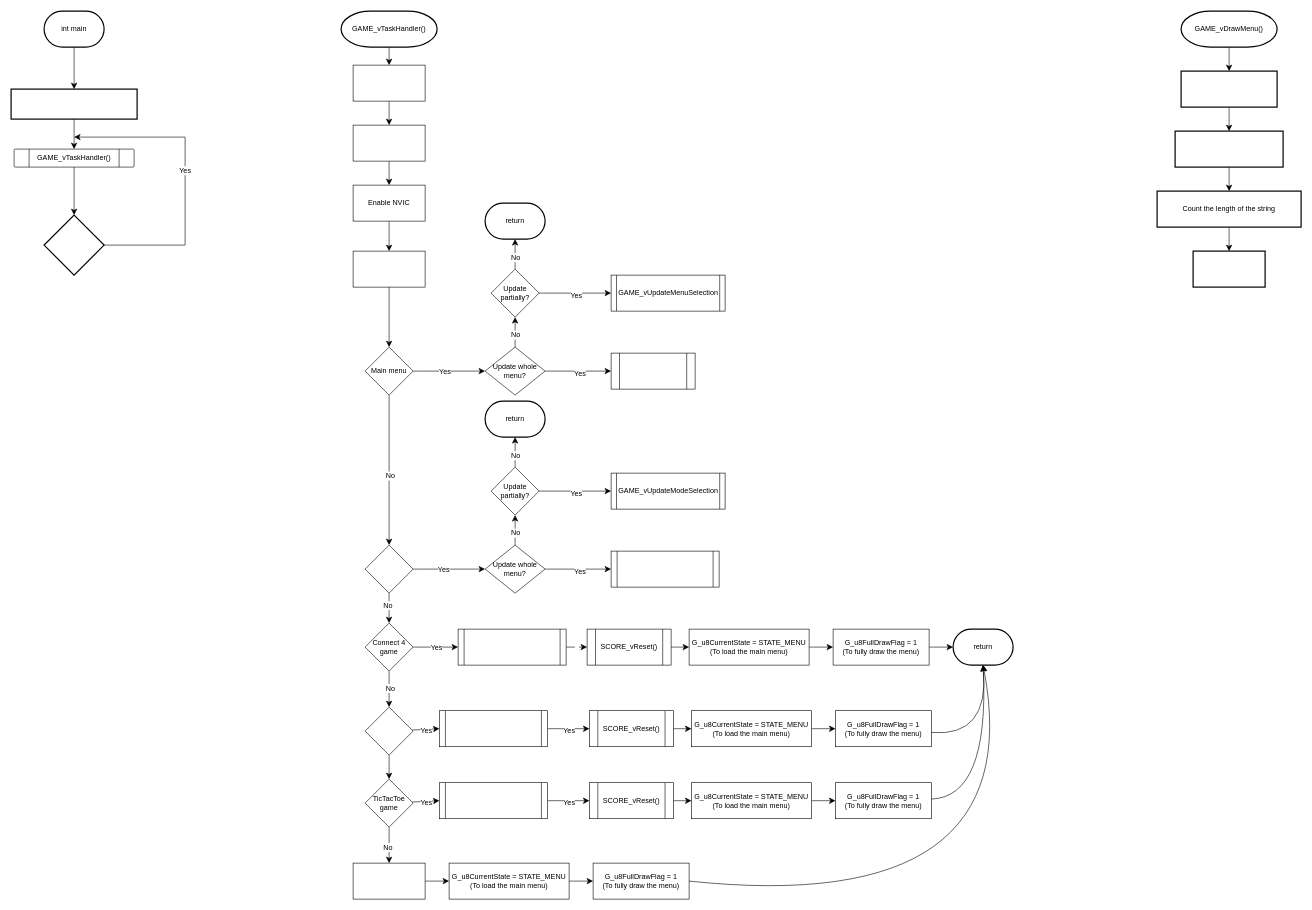
Some shapes in this 1312 by 910 pixel diagram are drawn without their labels. The centre of each missing label's shape, as x and y in pixels:
"CONNECT4_vPlay()" belongs at (x=512, y=646).
"Default" belongs at (x=388, y=880).
"Disable NVIC" belongs at (x=388, y=82).
"Fill background color Black" belongs at (x=1228, y=148).
"GAME_vDrawMenu" belongs at (x=652, y=370).
"GAME_vDrawModeMenu" belongs at (x=664, y=568).
"Get Variable Values" belongs at (x=388, y=142).
"Initialize and declare variables" belongs at (x=1228, y=88).
"Initialize Clocks, Pins, IR, Display" belongs at (x=73, y=103).
"Mode menu" belongs at (x=388, y=568).
"Snake game" belongs at (x=388, y=730).
"SNAKE_vPlay()" belongs at (x=493, y=800).
"switch (L_eState)" belongs at (x=388, y=268).
"TICTACTOE_vPlay" belongs at (x=493, y=728).
"while (1)" belongs at (x=73, y=244).
